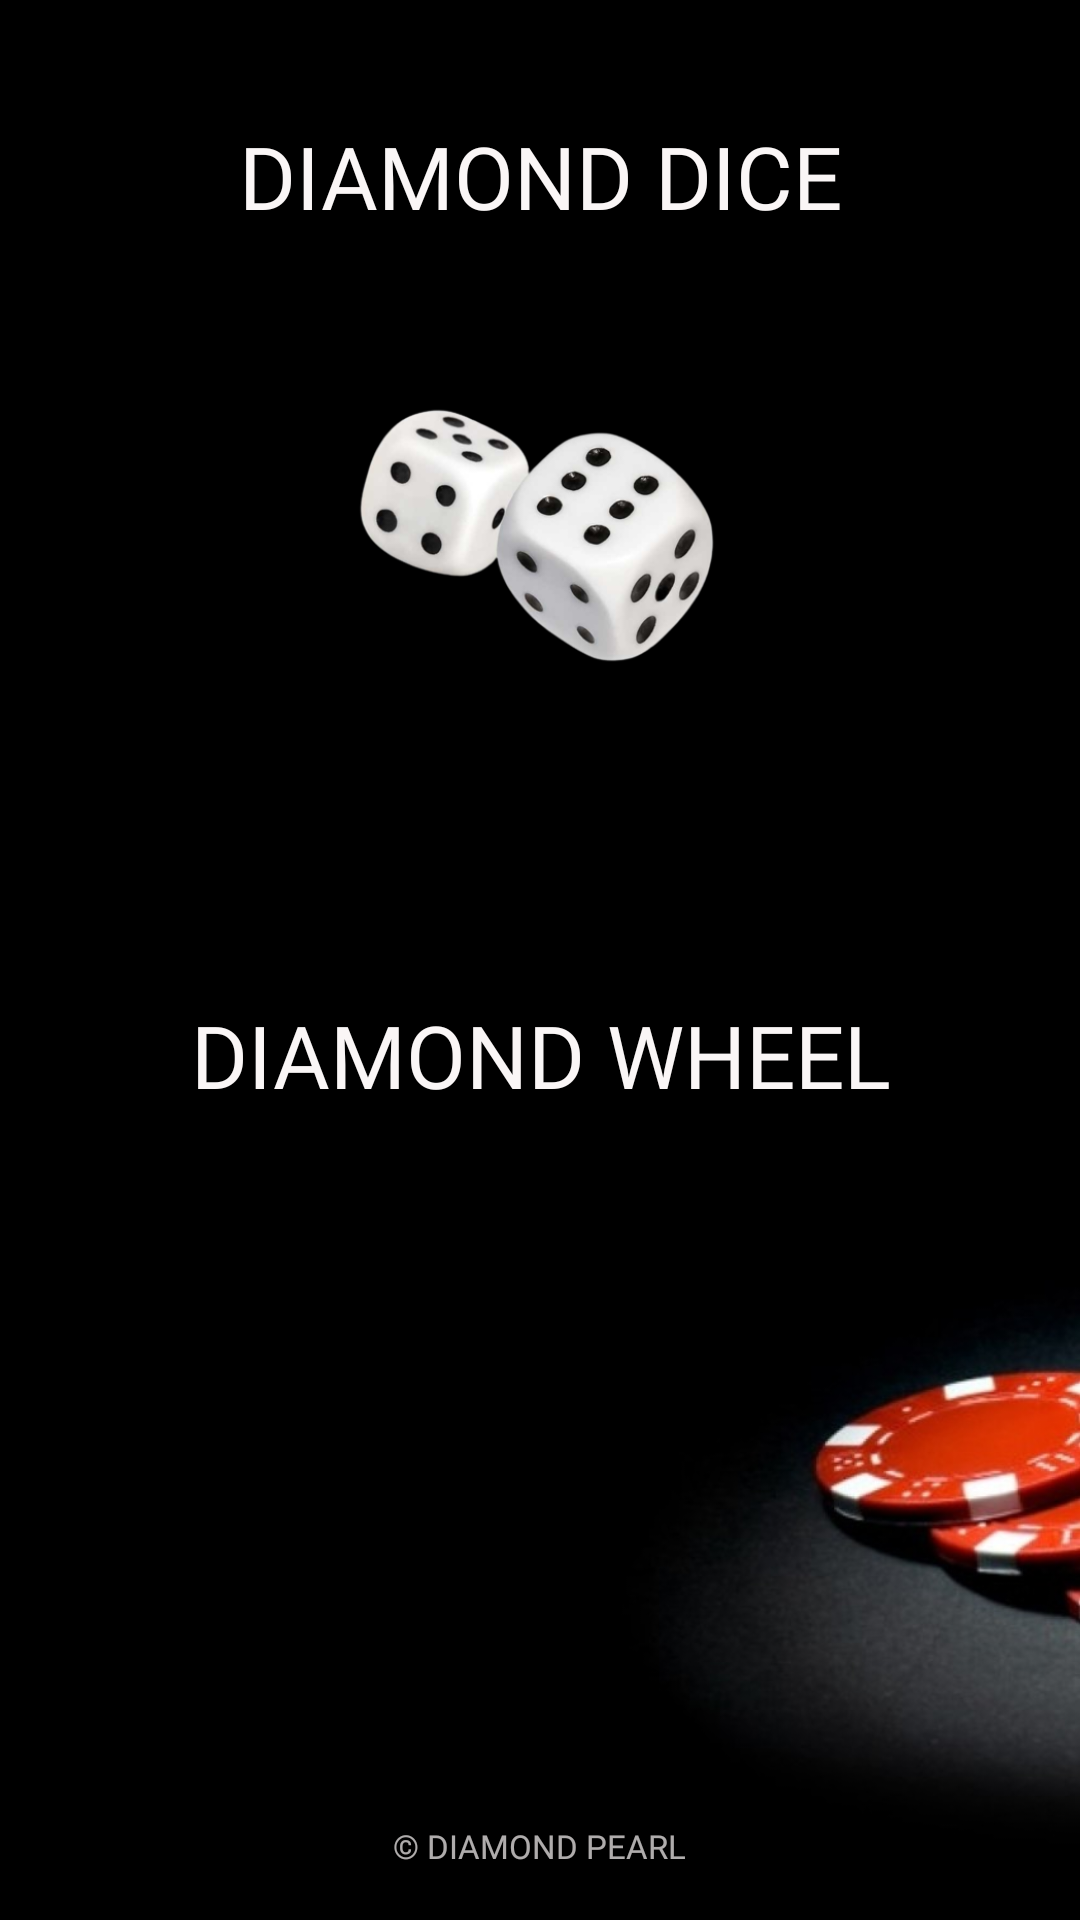

Screen size 1080*1920. Icon name, then its center in pixels as point (x, y):
dice nice: point (537, 535)
